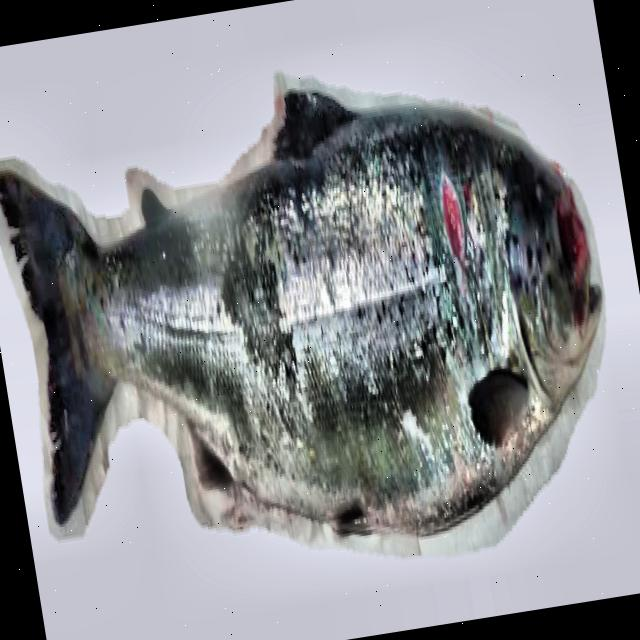mild_red: (68, 113, 542, 529)
wound: (441, 176, 464, 264)
